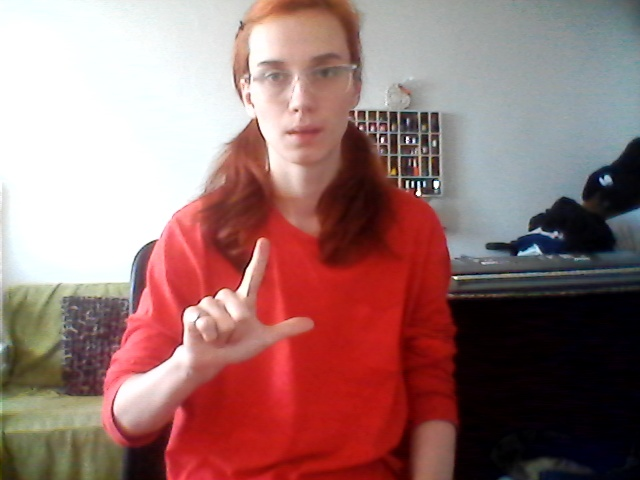l: (176, 234, 320, 376)
